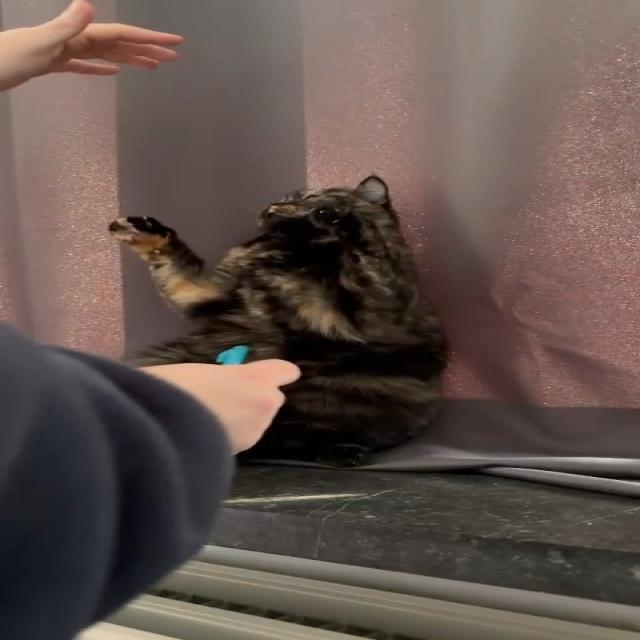authorized: (107, 173, 450, 468)
